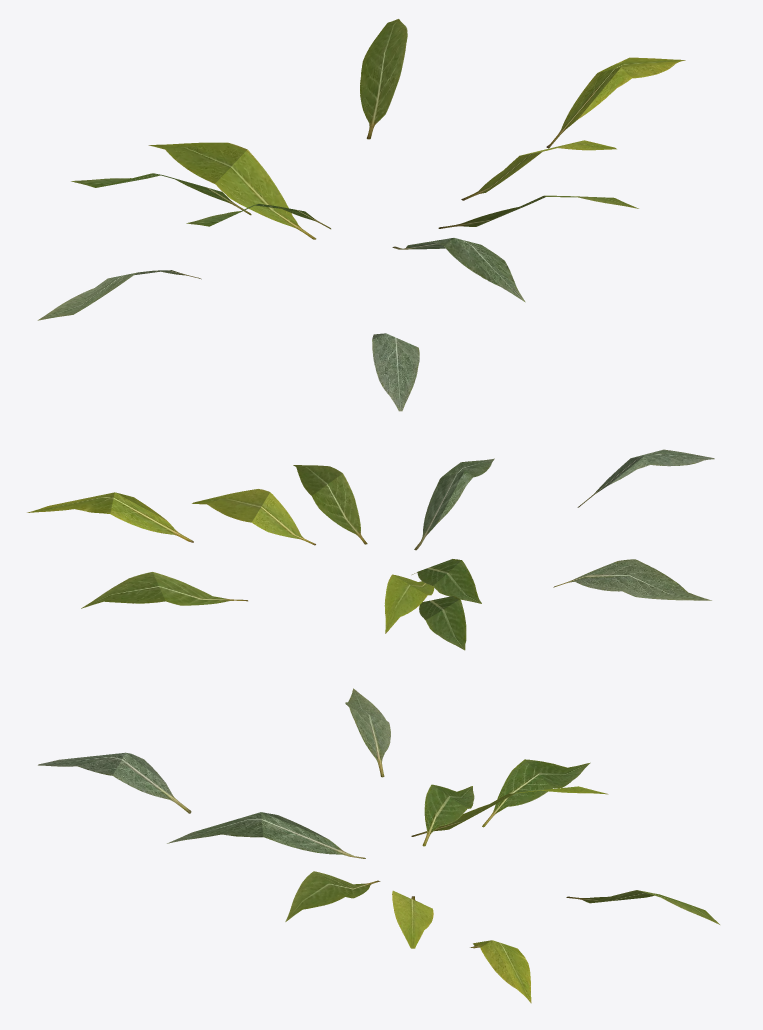
Rendered from groundcover_02.glb.
3 renders of one model, top to bottom at view 1: azimuth 30°, elevation 25°; view 2: azimuth 150°, elevation 25°; view 3: azimuth 270°, elevation 25°, orthographic. The views are drawn at different scales.
Parts seen in each view (by area): view 1: groundcover_02; view 2: groundcover_02; view 3: groundcover_02.
Part boxes in pixels (box(x1,y1,x2,y2)): groundcover_02: box(37, 19, 685, 411); groundcover_02: box(27, 449, 714, 650); groundcover_02: box(38, 688, 719, 1003).
Bounding box in the file's own units: 1.36 × 0.0896 × 1.27.
1 material, 1 textured.
